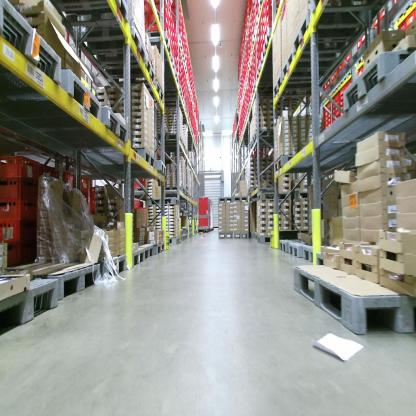pallet: (291, 257, 416, 338), (0, 1, 65, 93), (7, 66, 103, 121), (341, 49, 415, 115), (31, 100, 132, 147), (4, 260, 101, 306), (292, 6, 368, 56), (1, 277, 61, 332), (72, 27, 150, 66), (282, 45, 350, 81), (56, 3, 138, 32), (97, 56, 155, 89), (90, 142, 156, 167), (271, 71, 323, 101), (97, 254, 129, 279), (274, 155, 314, 172), (134, 158, 169, 176), (151, 33, 171, 57), (254, 126, 281, 143), (256, 191, 292, 203), (146, 194, 181, 206), (157, 140, 186, 154), (129, 247, 146, 269), (286, 239, 304, 259), (252, 80, 275, 95), (277, 239, 297, 256), (303, 242, 320, 262), (157, 133, 183, 146), (262, 27, 274, 55), (248, 137, 276, 149), (259, 46, 273, 69), (162, 186, 186, 198), (136, 244, 153, 260), (157, 85, 168, 106), (153, 241, 165, 257), (233, 193, 248, 204), (219, 229, 234, 240), (257, 233, 275, 242), (254, 65, 264, 80), (218, 195, 234, 204), (173, 148, 188, 157), (167, 237, 180, 247), (234, 232, 248, 240), (248, 186, 259, 196), (248, 232, 254, 240), (253, 230, 257, 242), (181, 233, 186, 242), (182, 210, 188, 217), (185, 183, 190, 190), (183, 228, 188, 235), (187, 190, 189, 198), (186, 234, 188, 240)
small_load_carrier: (2, 150, 40, 184), (1, 177, 39, 202), (1, 199, 39, 221), (17, 215, 40, 247), (1, 244, 25, 270), (55, 169, 76, 197), (2, 218, 22, 245), (121, 196, 145, 213), (83, 188, 96, 211), (77, 175, 91, 196), (149, 21, 167, 35), (149, 10, 169, 22), (149, 2, 169, 10)
